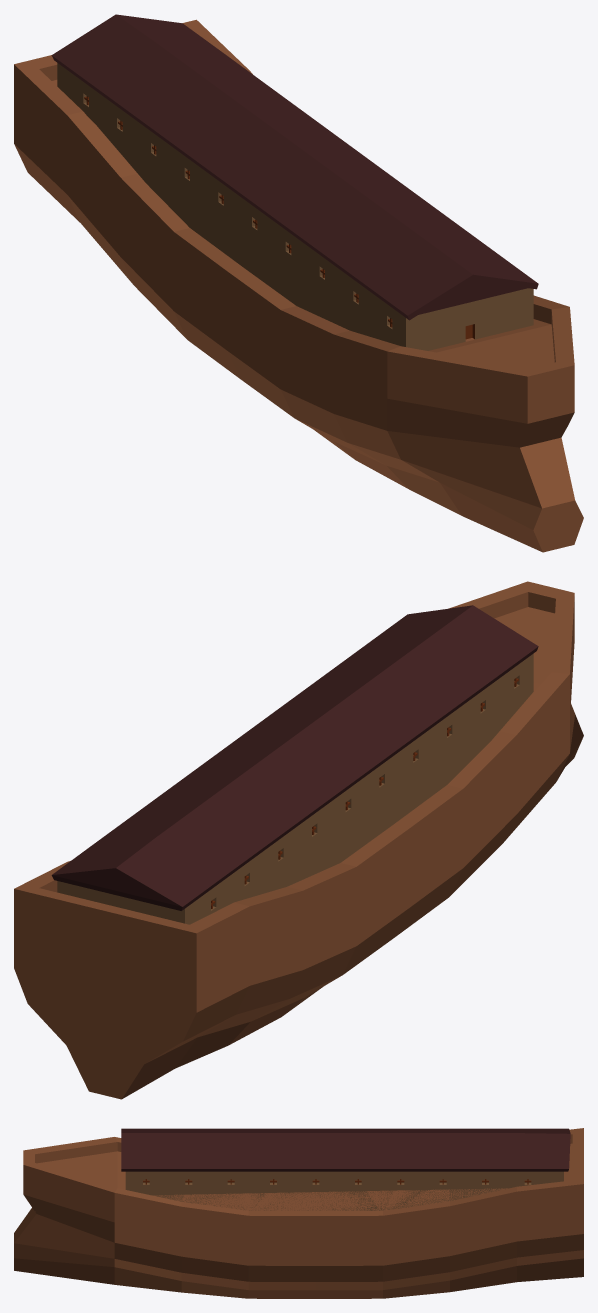
The model's file is ship.fbx.
The picture shows the model from 3 angles, top to bottom: view 1: azimuth 30°, elevation 25°; view 2: azimuth 150°, elevation 25°; view 3: azimuth 270°, elevation 25°; orthographic projection. The views are drawn at different scales.
Parts seen in each view (by area): view 1: Cube, roof, cabin; view 2: Cube, roof, cabin; view 3: Cube, roof, cabin, windows.
Part boxes in pixels (x1,y1,x2,y2): Cube: [14, 19, 583, 552]; roof: [51, 14, 538, 320]; cabin: [57, 63, 533, 350]; Cube: [14, 581, 583, 1099]; roof: [51, 605, 538, 910]; cabin: [57, 653, 533, 924]; Cube: [14, 1128, 583, 1298]; roof: [121, 1128, 570, 1171]; cabin: [125, 1171, 563, 1210]; windows: [143, 1179, 531, 1184].
Size of the model in its own units: 237 by 318 by 1020.
